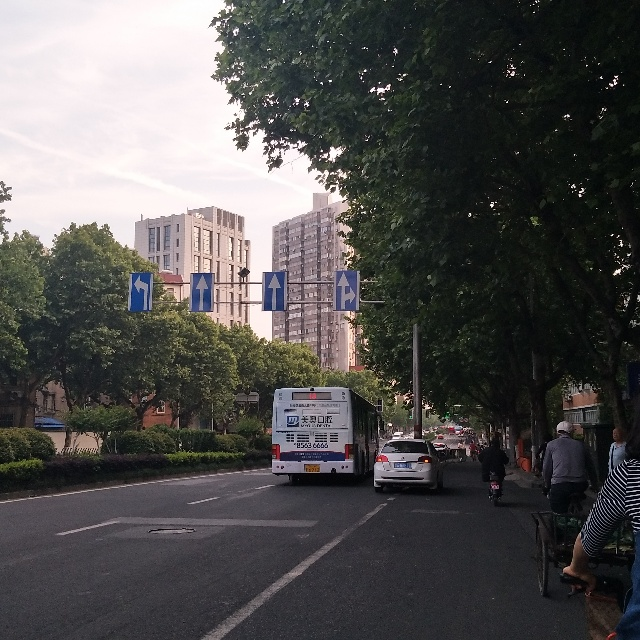left: (129, 272, 152, 311)
straight: (265, 270, 287, 309), (192, 275, 210, 313)
